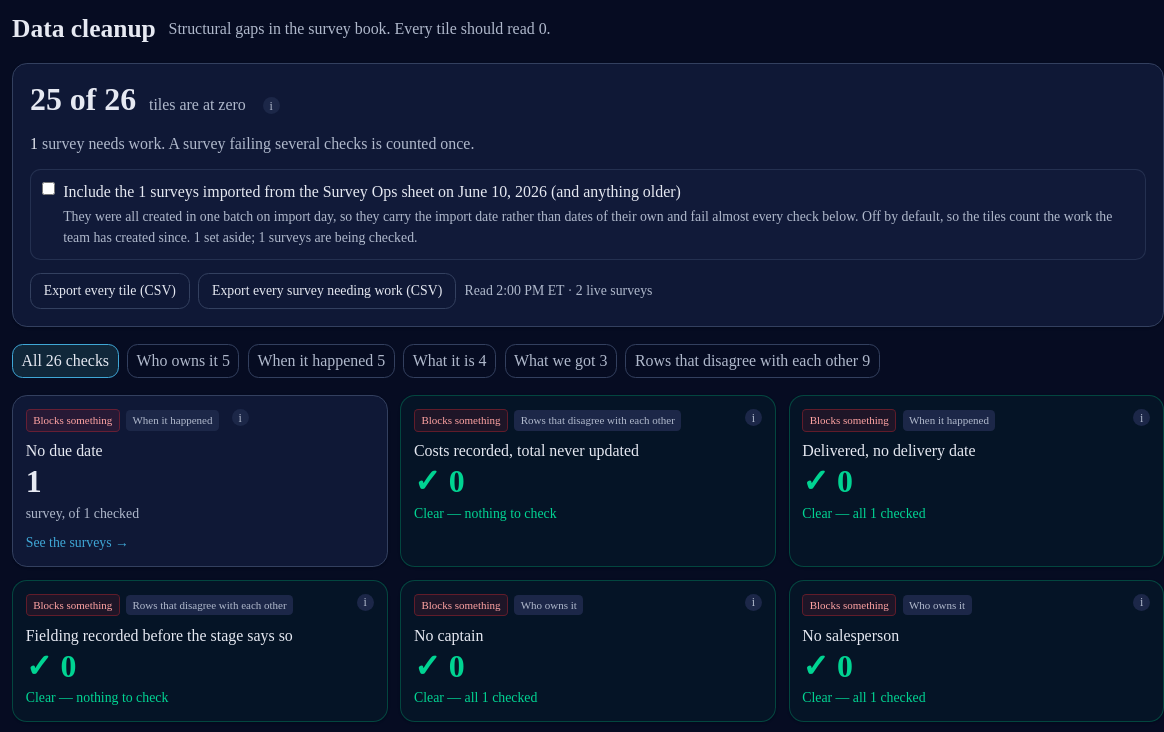
the legacy-import scope › the toggle changes the counts
Click the checkbox labelled "Include the 1 surveys imported" at (48, 189), box [42,182,55,195]
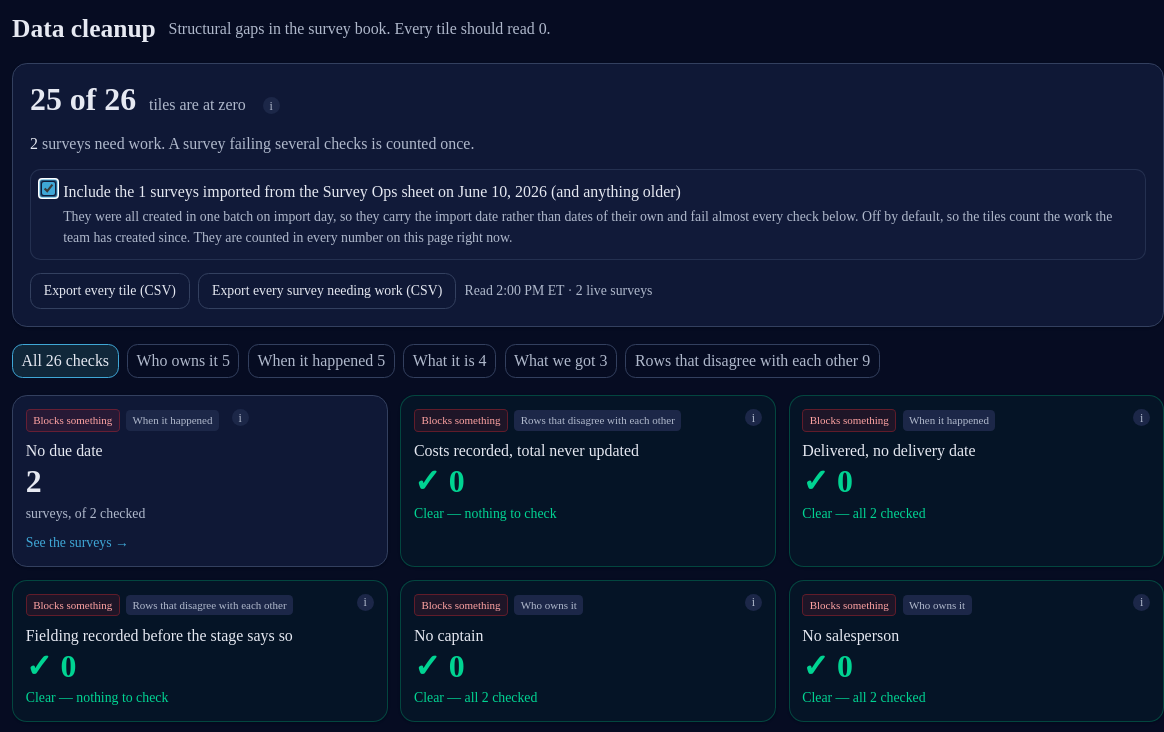
Expected: the text "counted in every number on this page right now" is shown, [194,230,512,245]
